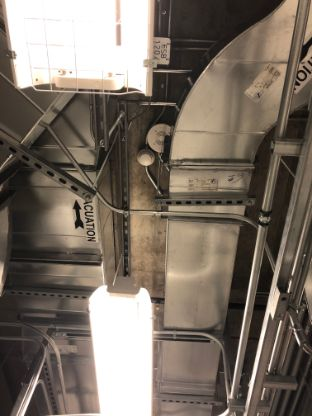Duct: (163, 2, 257, 416), (1, 91, 127, 293)
